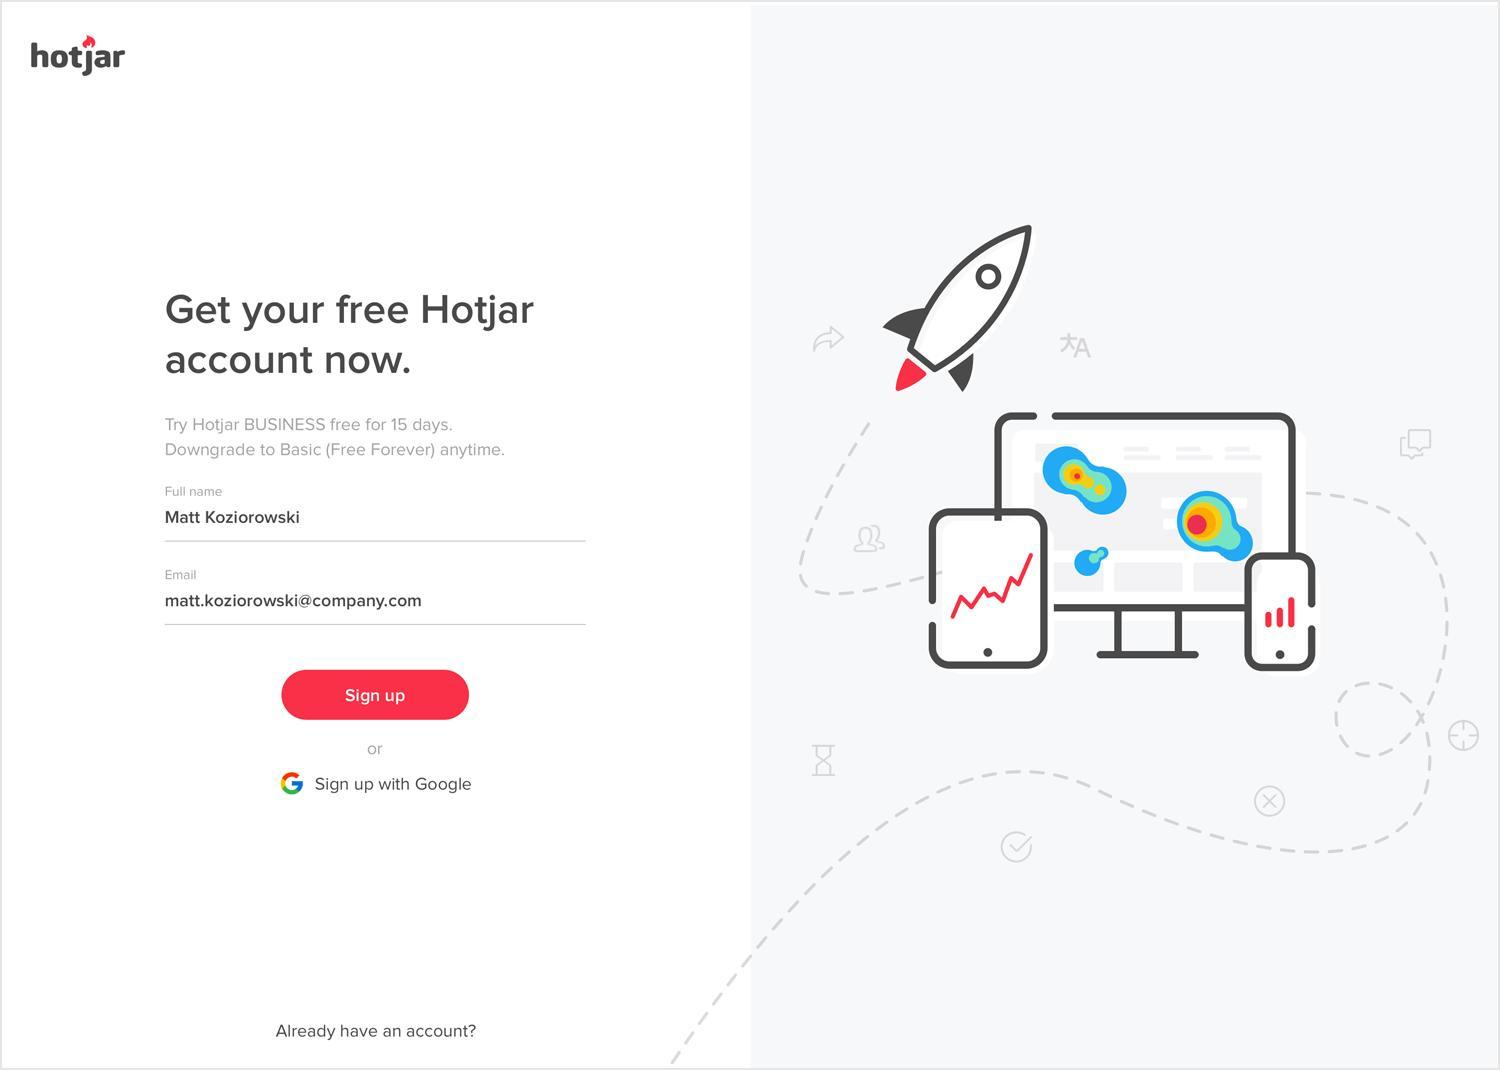button: (282, 668, 471, 723)
input: (160, 503, 600, 547), (163, 591, 590, 633)
label: (160, 483, 225, 501), (160, 569, 203, 582)
